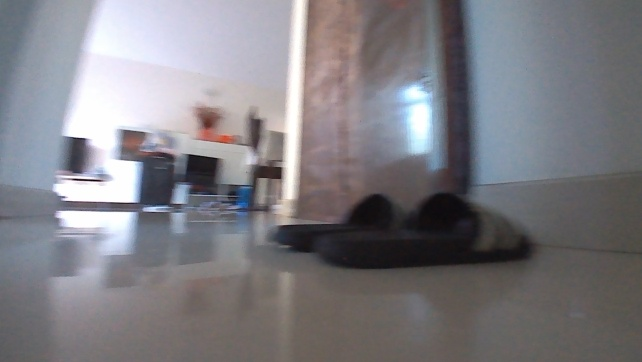door_anno: (284, 0, 473, 229)
slipper: (310, 184, 537, 269), (264, 191, 412, 253)
